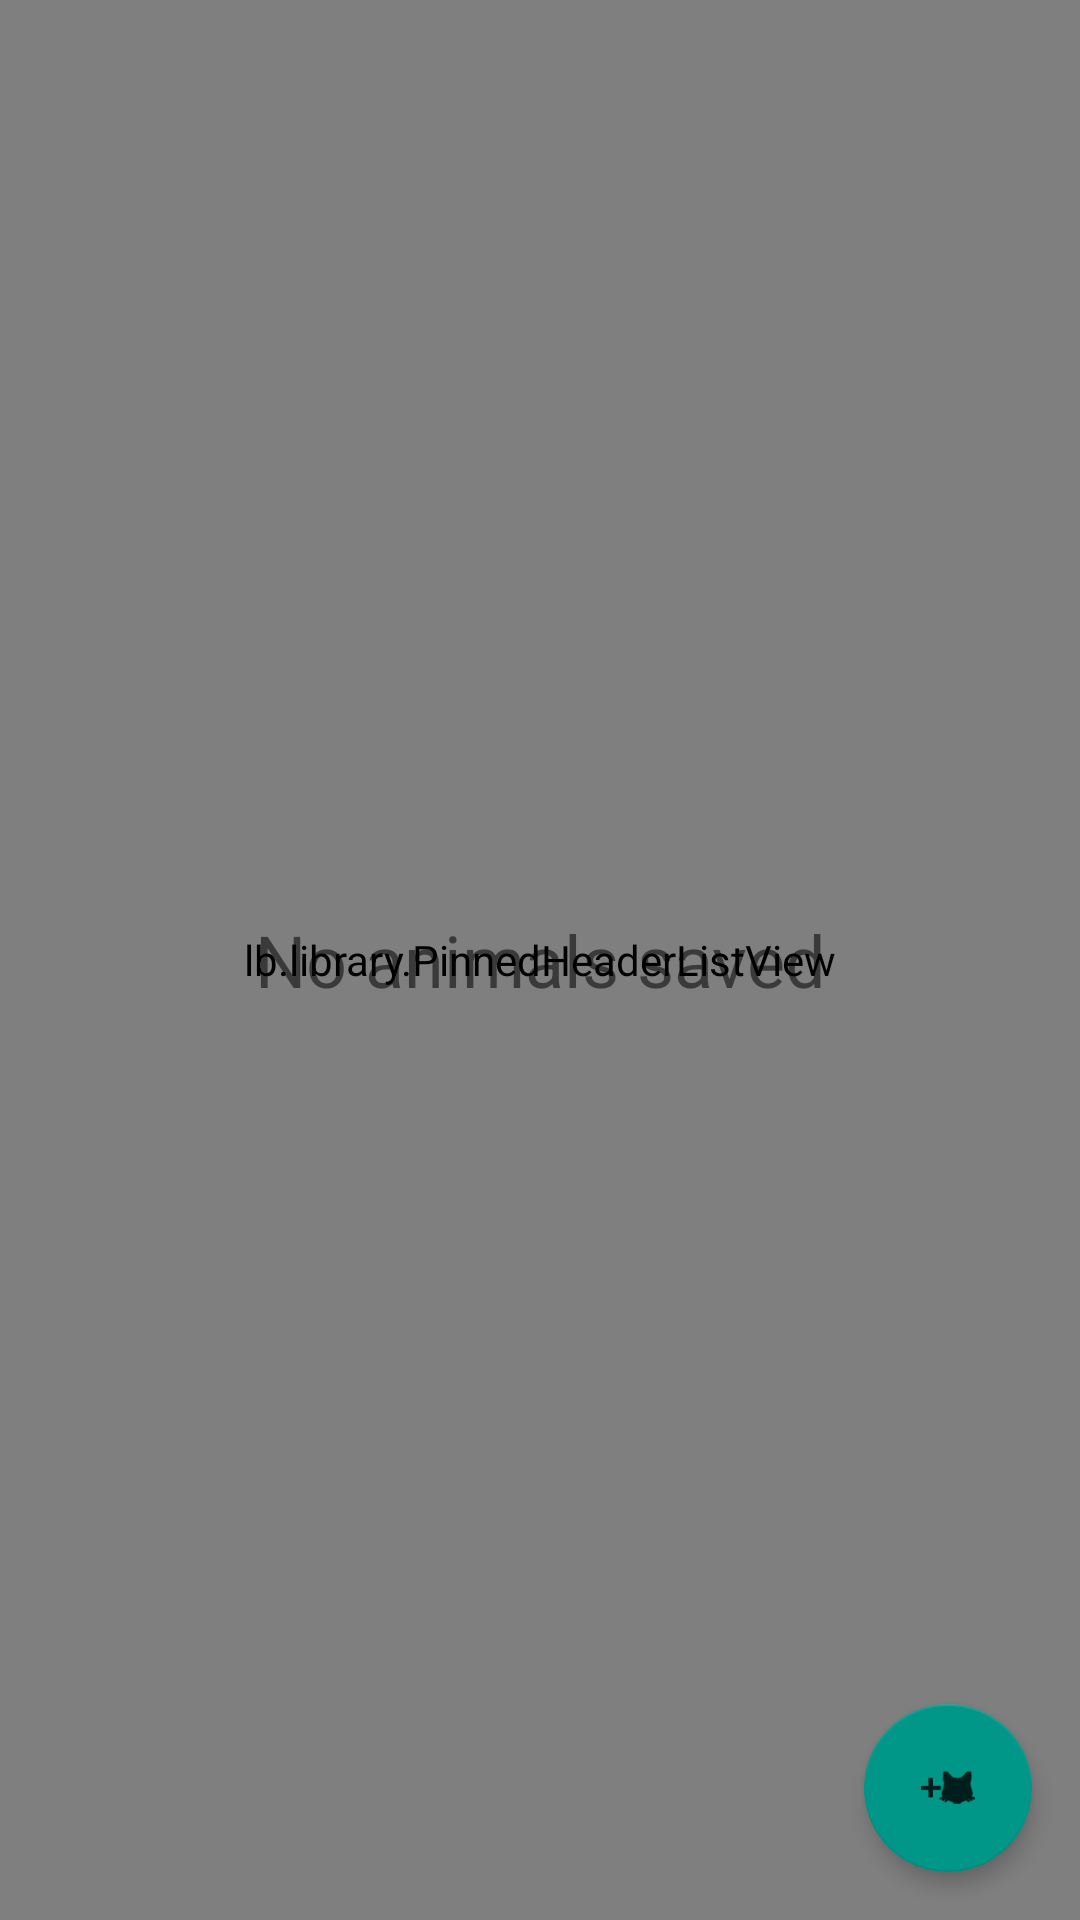

Icons on this 1080px x 1920px Android screen, each with the point to tap as (x,y):
add animal: (948,1788)
